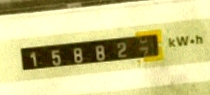1: (28, 50, 40, 68)
2: (116, 40, 128, 58)
5: (49, 48, 63, 66)
7: (138, 44, 150, 58)
8: (72, 45, 84, 63), (95, 44, 106, 60)
screen: (13, 26, 171, 75)
